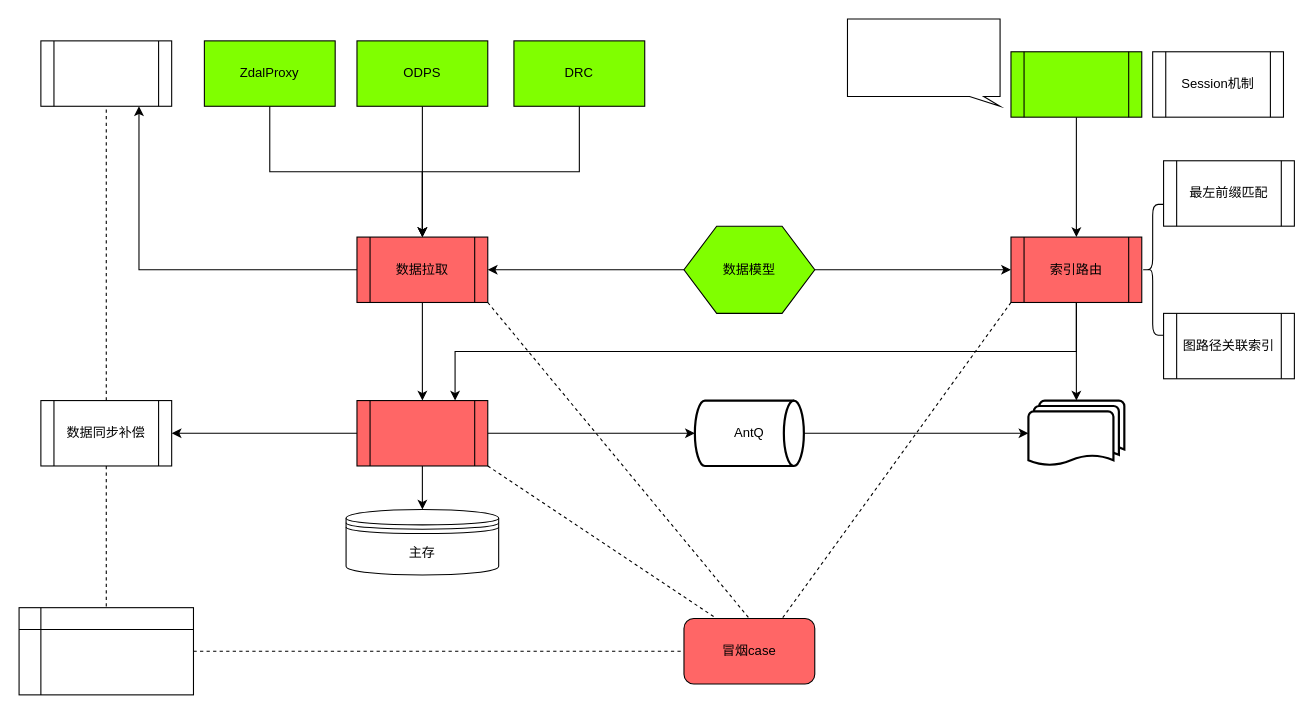
Some shapes in this 1313 by 714 pixel diagram are drawn without their labels. Each missing label, with the box of its shape:
1. 慢SQL 2. 数据过多 3. 执行计划不合理: (846, 18, 1000, 106)
数据存储: (356, 399, 488, 466)
数据拉取补偿: (40, 40, 172, 106)
数据质量: (18, 607, 193, 695)
统一查询: (1010, 51, 1142, 117)
缓存: (1027, 399, 1125, 467)
